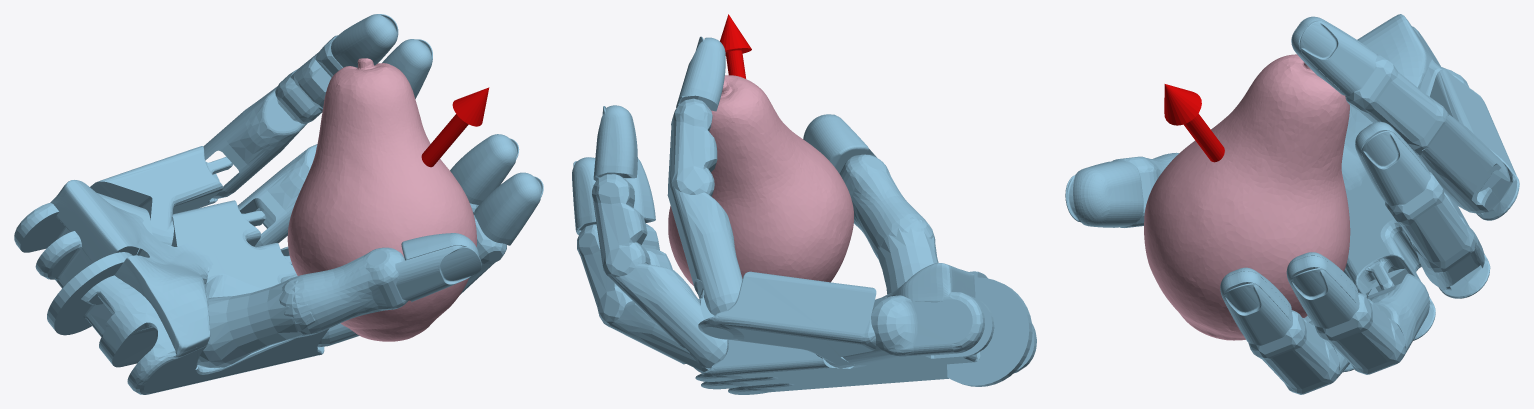
3 renders of one model, left to right at view 1: azimuth 30°, elevation 25°; view 2: azimuth 150°, elevation 25°; view 3: azimuth 270°, elevation 25°, orthographic. The views are drawn at different scales.
Parts seen in each view (by area): view 1: world, pear.stl; view 2: world, pear.stl; view 3: world, pear.stl.
Part boxes in pixels (bbox=[...]): world: bbox=[14, 14, 543, 394]; pear.stl: bbox=[287, 58, 476, 341]; world: bbox=[572, 14, 1036, 394]; pear.stl: bbox=[668, 75, 853, 285]; world: bbox=[1065, 14, 1519, 394]; pear.stl: bbox=[1144, 54, 1350, 340].
Size of the model in its own units: 0.1912 by 0.1328 by 0.1446.
